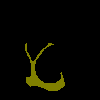reggiseno: (25, 42, 65, 91)
